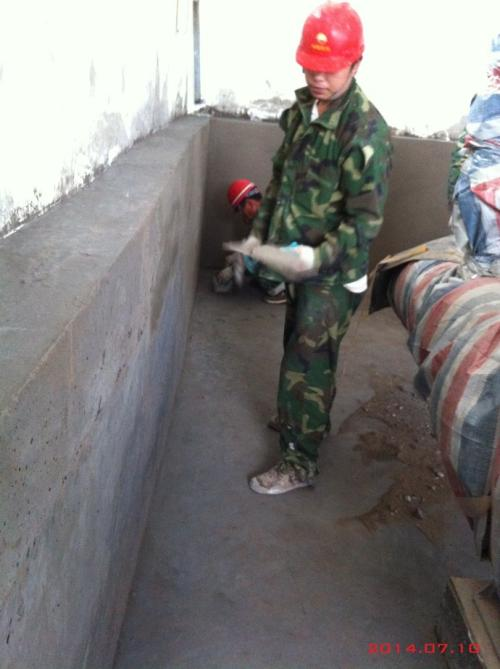boots: (248, 458, 316, 494)
gloves: (249, 242, 318, 283)
hard-hat: (295, 1, 365, 74)
person: (230, 1, 394, 495)
ppe-suit: (239, 76, 394, 485)
